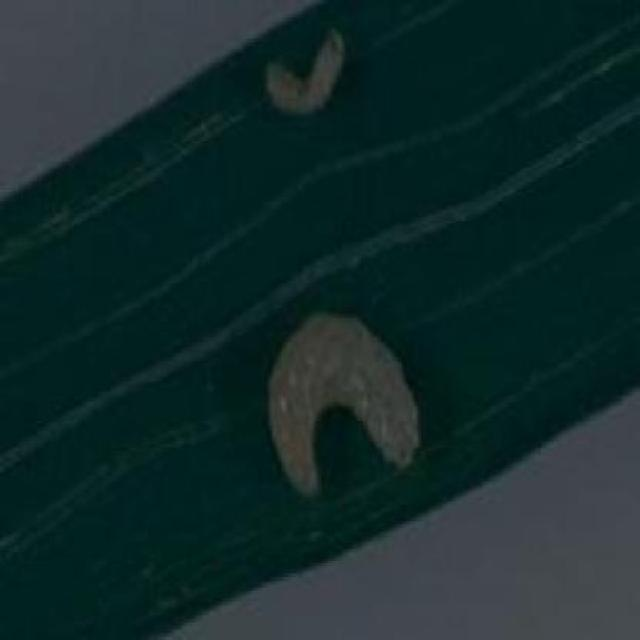whorl-maggot: (265, 304, 430, 505), (256, 20, 366, 137)
